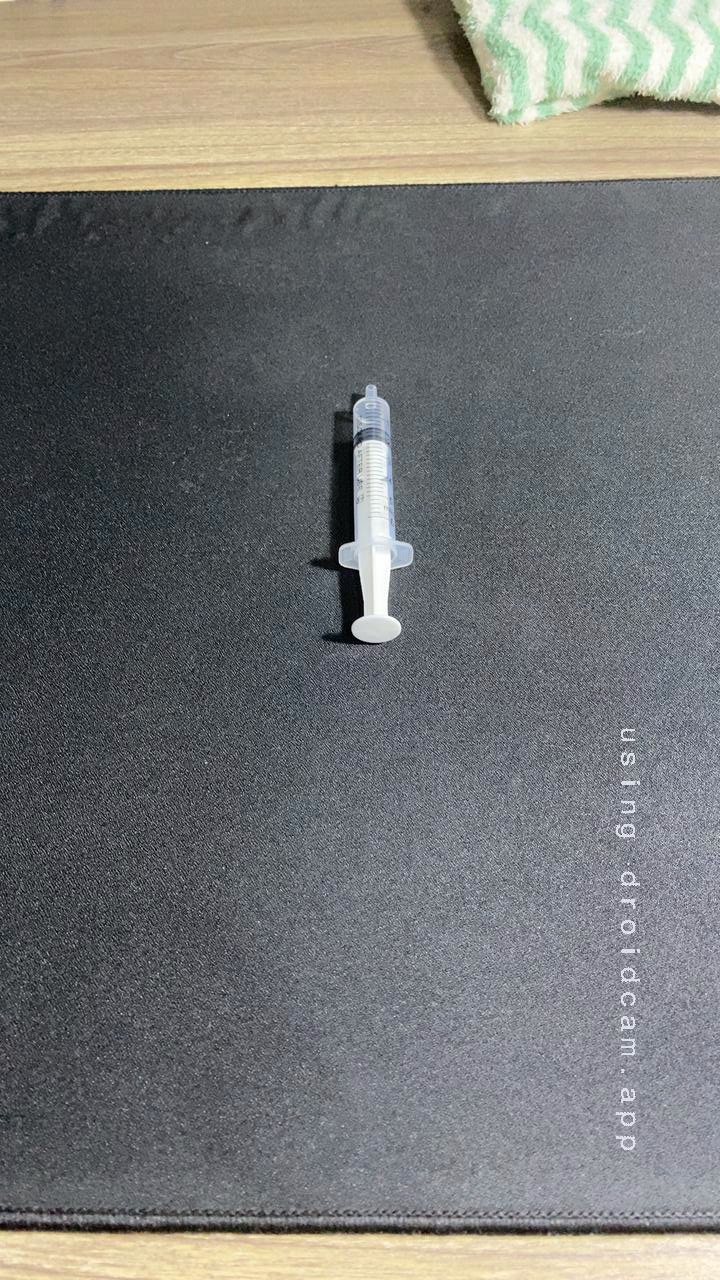syringe: (298, 370, 433, 656)
